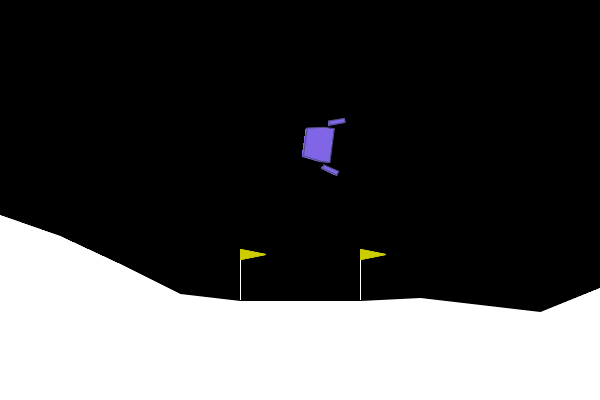lander: (299, 112, 346, 177)
